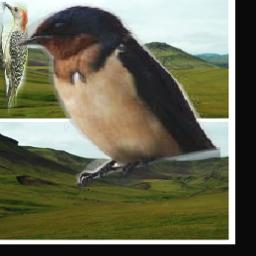Swallow: (15, 4, 219, 188)
Woodpecker: (0, 3, 28, 115)
